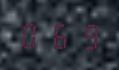nine: (73, 20, 99, 50)
six: (46, 19, 72, 50)
zero: (18, 19, 44, 49)
